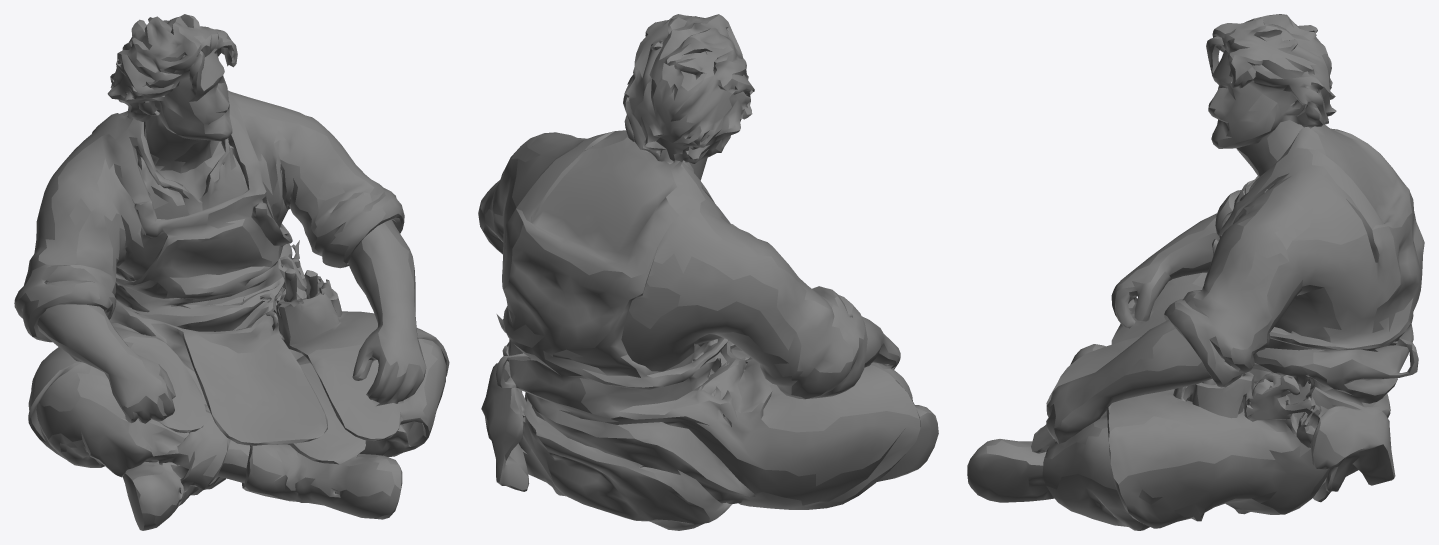
Rendered from completion_potter_1.glb.
3 renders of one model, left to right at view 1: azimuth 30°, elevation 25°; view 2: azimuth 150°, elevation 25°; view 3: azimuth 270°, elevation 25°, orthographic. The views are drawn at different scales.
Visible parts, largest first — view 1: geometry_0; view 2: geometry_0; view 3: geometry_0.
Part boxes in pixels (x1,y1,x2,y2): geometry_0: (14,14,449,530); geometry_0: (478,14,938,530); geometry_0: (967,14,1424,530).
Size of the model in its own units: 0.9203 by 0.9996 by 0.9221.
1 material, 1 textured.
